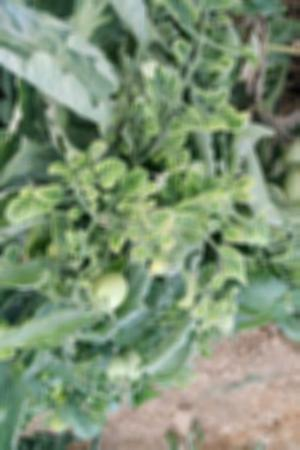Tomato leaf yellow virus: (187, 179, 245, 219), (3, 182, 45, 231), (91, 152, 138, 187), (218, 244, 254, 287), (140, 52, 168, 105), (137, 207, 182, 237), (115, 164, 152, 199), (214, 104, 255, 135), (163, 134, 195, 173), (38, 179, 70, 209), (246, 211, 271, 248), (178, 110, 207, 132)
